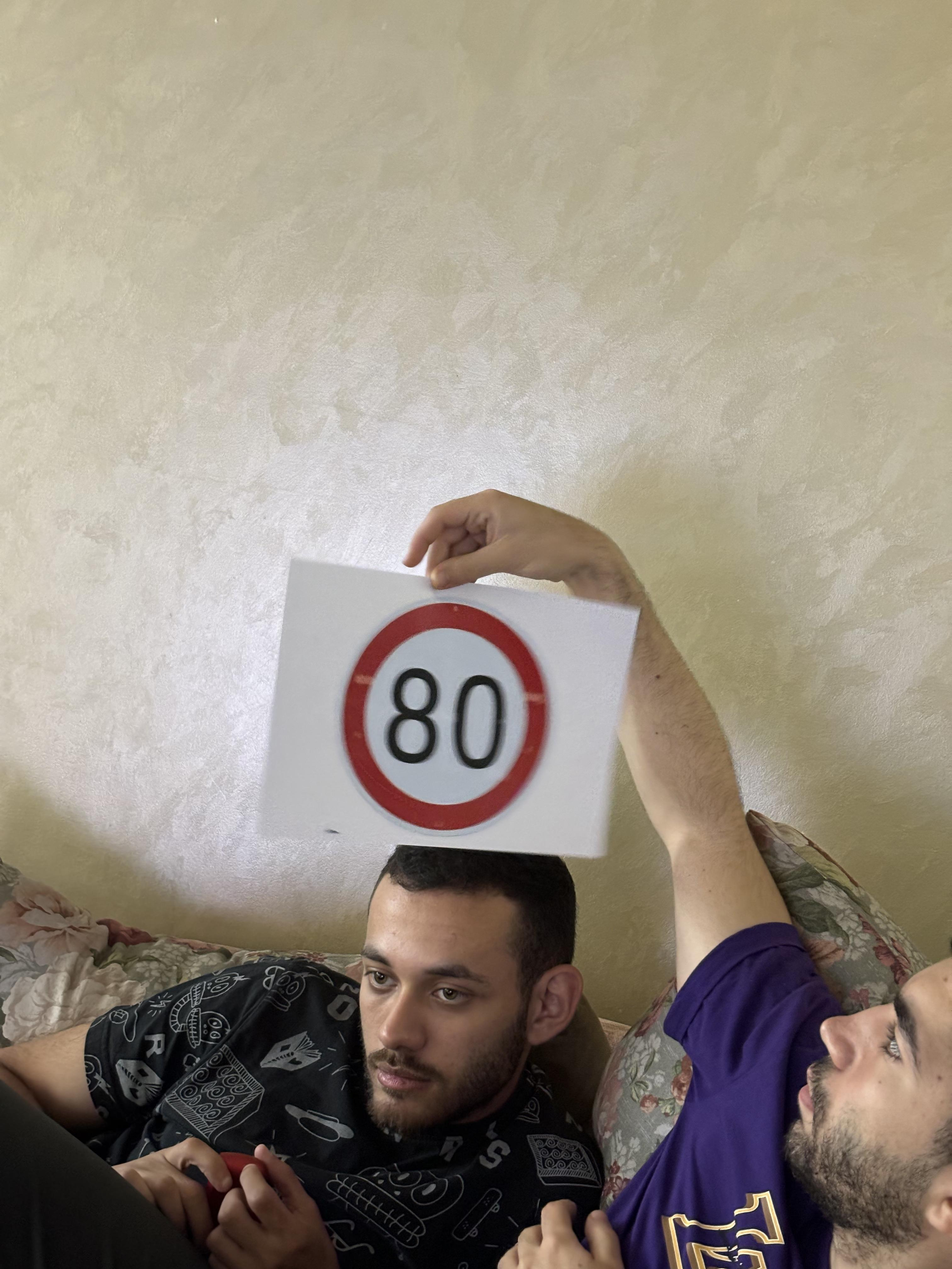80-Speed: (334, 595, 553, 845)
